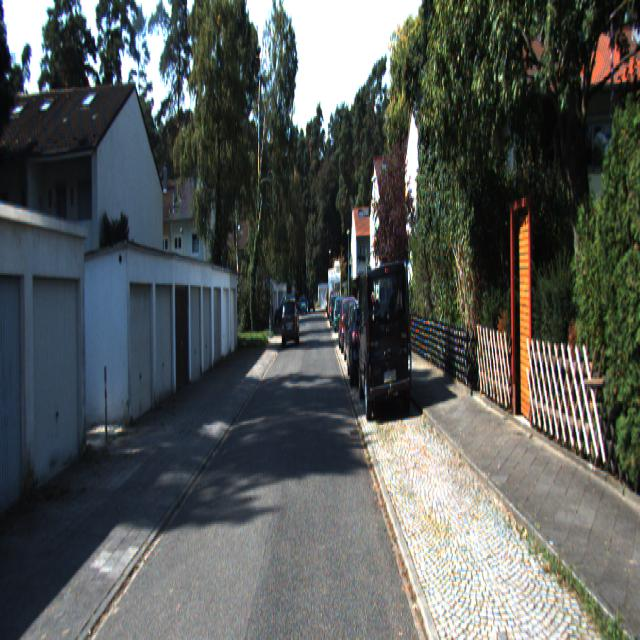Car: (354, 256, 410, 420), (282, 296, 300, 346), (328, 265, 341, 320)
